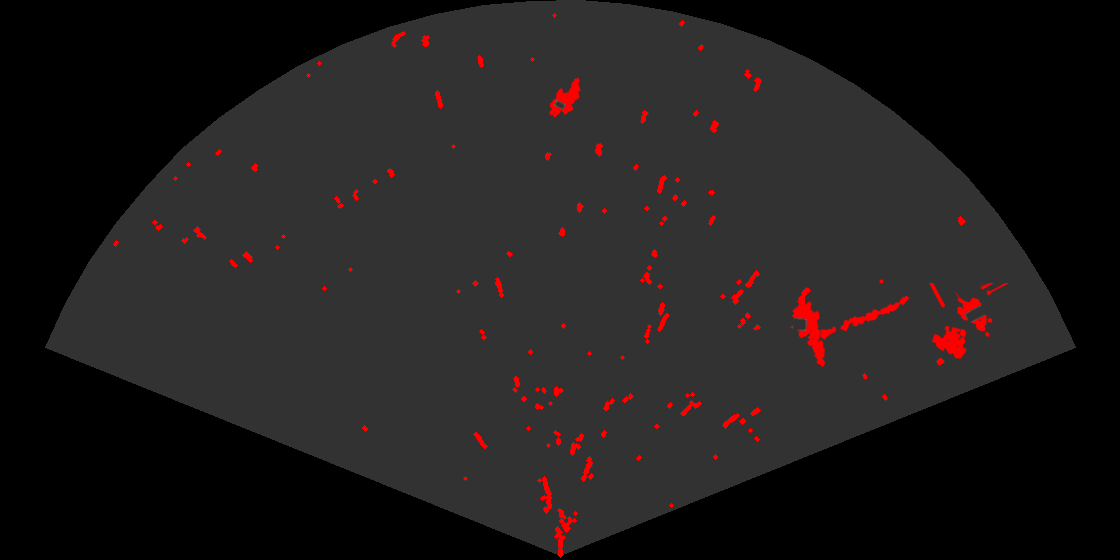AUV: (548, 76, 582, 119)
cage: (928, 283, 1010, 360)
chain: (817, 294, 911, 341)
frogman: (789, 297, 827, 367)
